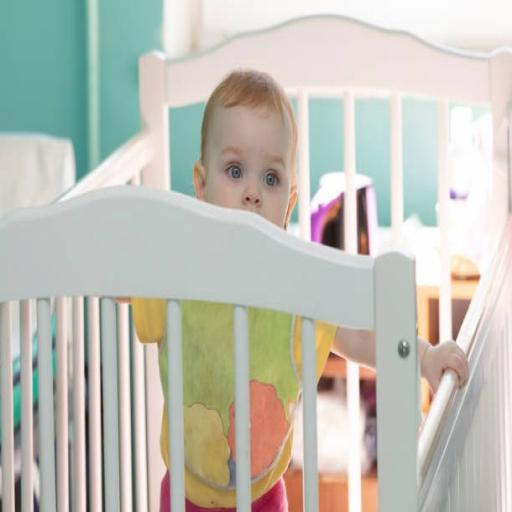baby: (183, 302, 235, 511)
crib: (0, 17, 511, 510)
